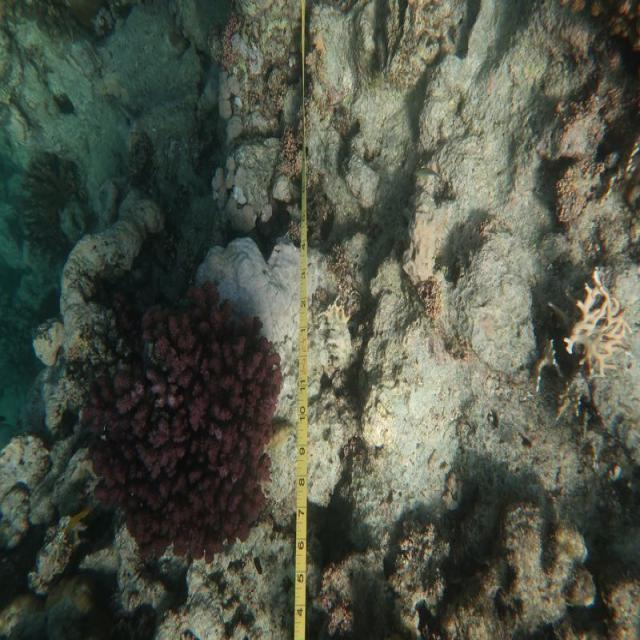Healthy Coral: (96, 278, 292, 552)
